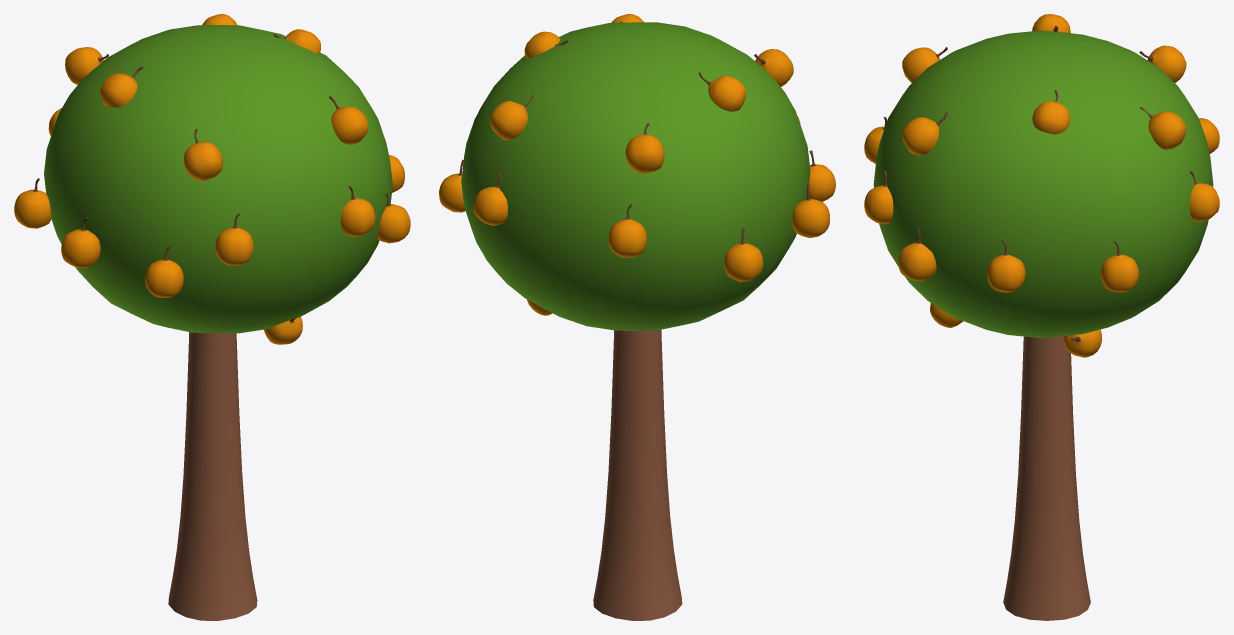
File: tree3.fbx
3 views of the same model, side by side, from view 1: azimuth 30°, elevation 25°; view 2: azimuth 150°, elevation 25°; view 3: azimuth 270°, elevation 25° (orthographic).
Parts seen in each view (by area): view 1: Cube.034; view 2: Cube.034; view 3: Cube.034.
Part boxes in pixels (x1,y1,x2,y2): Cube.034: (14, 14, 410, 620); Cube.034: (439, 14, 835, 620); Cube.034: (864, 14, 1219, 620).
Size of the model in its own units: 3.47 by 3.18 by 5.46.
